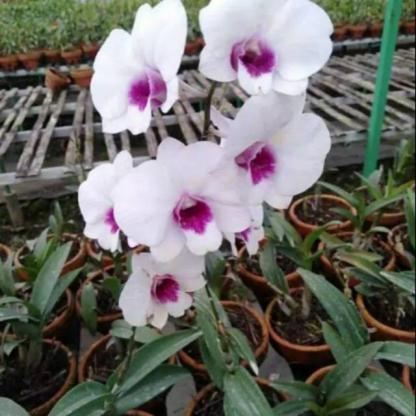ANGGREK: (72, 10, 352, 333)
